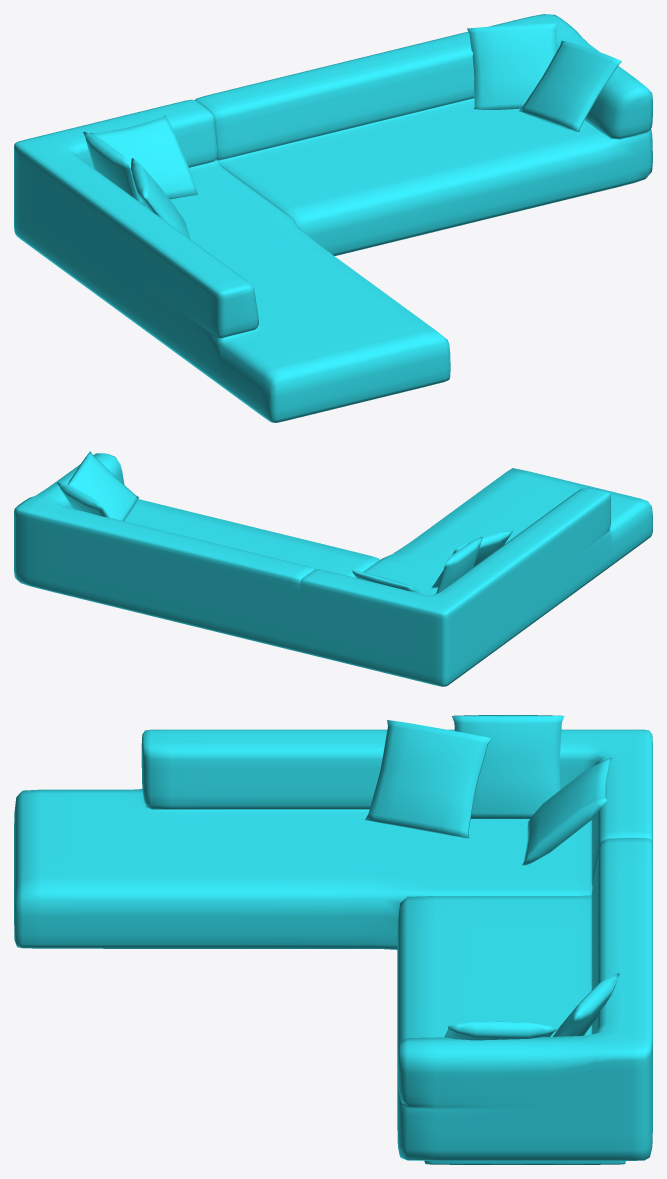
File: LType_sofa.glb
The picture shows the model from 3 angles, top to bottom: view 1: azimuth 30°, elevation 25°; view 2: azimuth 150°, elevation 25°; view 3: azimuth 270°, elevation 25°; orthographic projection. The views are drawn at different scales.
Visible parts, largest first — view 1: sofa_Cube.001; view 2: sofa_Cube.001; view 3: sofa_Cube.001.
Part boxes in pixels (x1,y1,x2,y2): sofa_Cube.001: (14, 14, 652, 422); sofa_Cube.001: (14, 451, 652, 686); sofa_Cube.001: (14, 715, 652, 1164).
Size of the model in its own units: 6 by 1.38 by 5.
